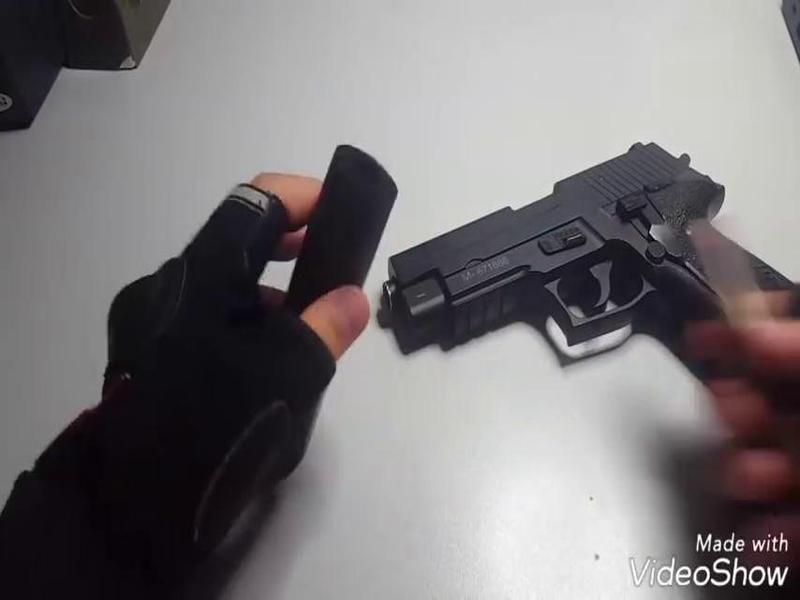Pistola: (379, 131, 800, 383)
